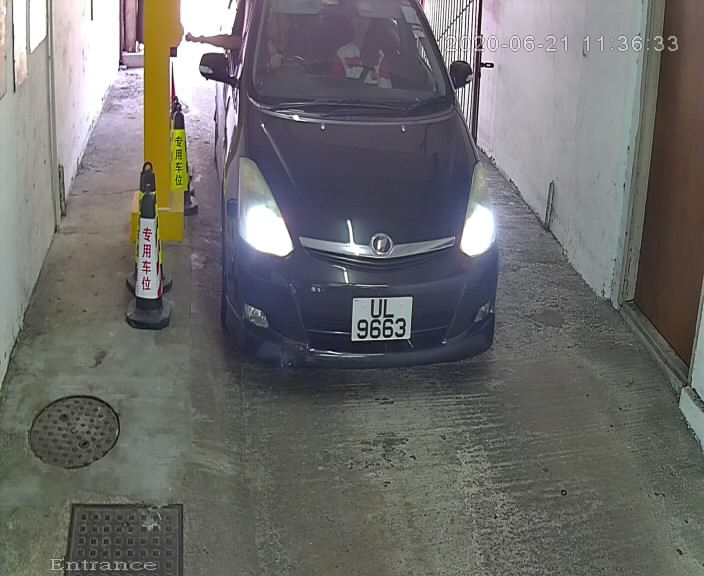privatecar: (193, 2, 513, 389)
